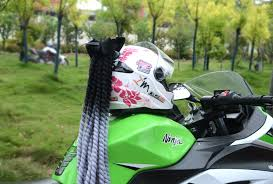helmet: (100, 29, 176, 114)
